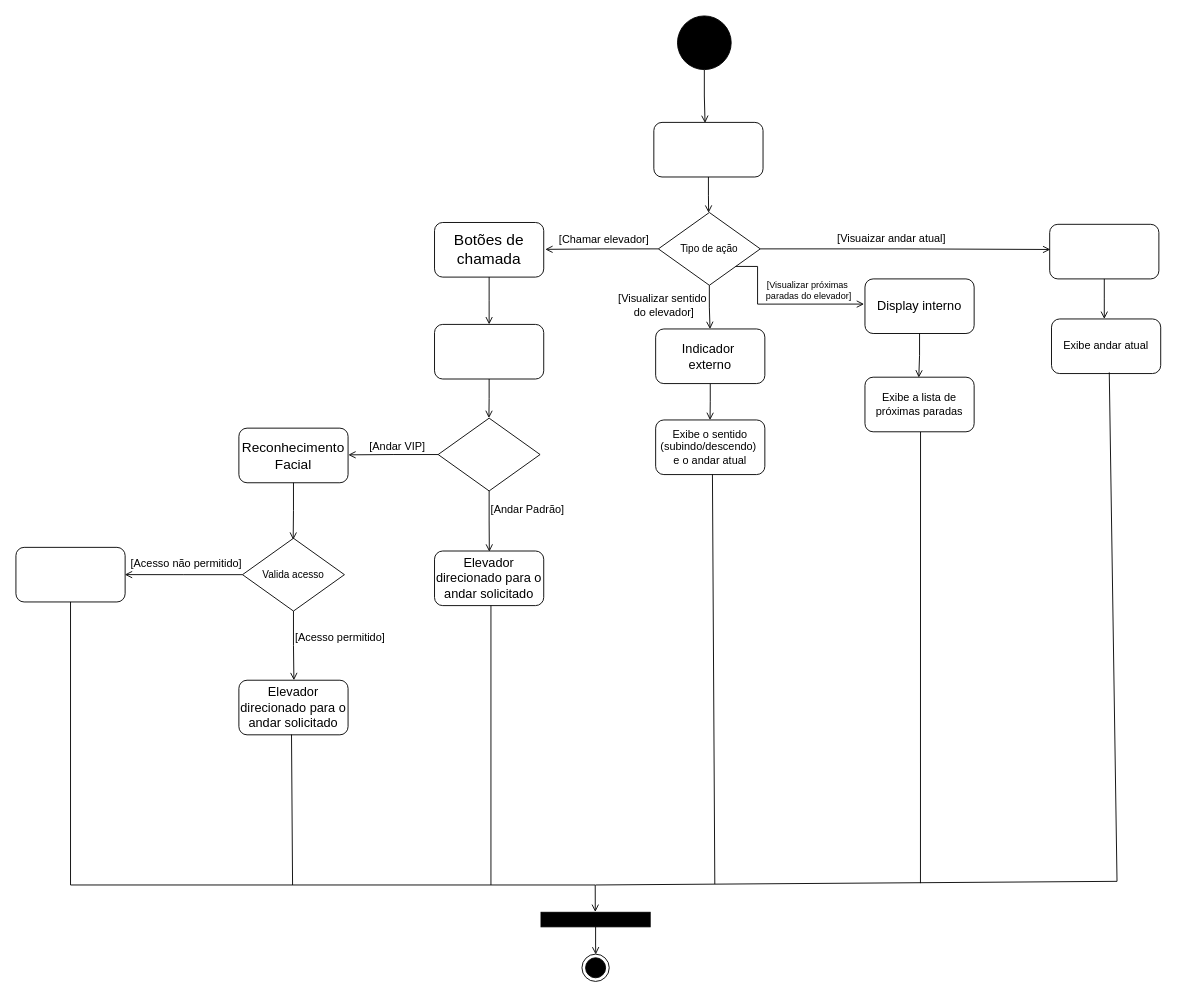
This 1177x997 diagram has some shape labels left out. Here are the shapes that lost their labels. From the top down, the centre of each, then its label:
At (708,149): "Controle das chamadas".
At (1104,251): "Display interno e externo".
At (489,351): "Andar selecionado".
At (488,454): "Verifica o andar".
At (70,574): "Acesso negado".
